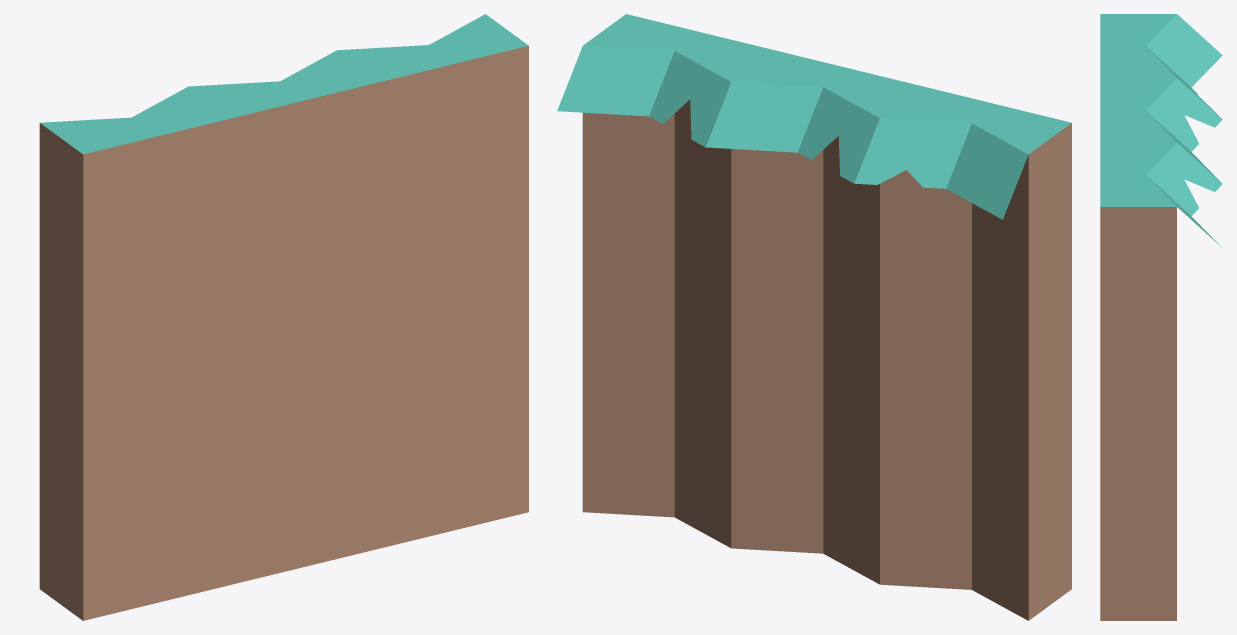
The model's file is cliff_top_rock.glb.
3 renders of one model, left to right at view 1: azimuth 30°, elevation 25°; view 2: azimuth 150°, elevation 25°; view 3: azimuth 270°, elevation 25°, orthographic. The views are drawn at different scales.
Visible parts, largest first — view 1: cliff_top_rock; view 2: cliff_top_rock; view 3: cliff_top_rock.
Part boxes in pixels (<box>): cliff_top_rock: <box>39,14,528,620</box>; cliff_top_rock: <box>557,14,1071,620</box>; cliff_top_rock: <box>1100,14,1222,620</box>.
Bounding box in the file's own units: 1 × 1 × 0.2685.
